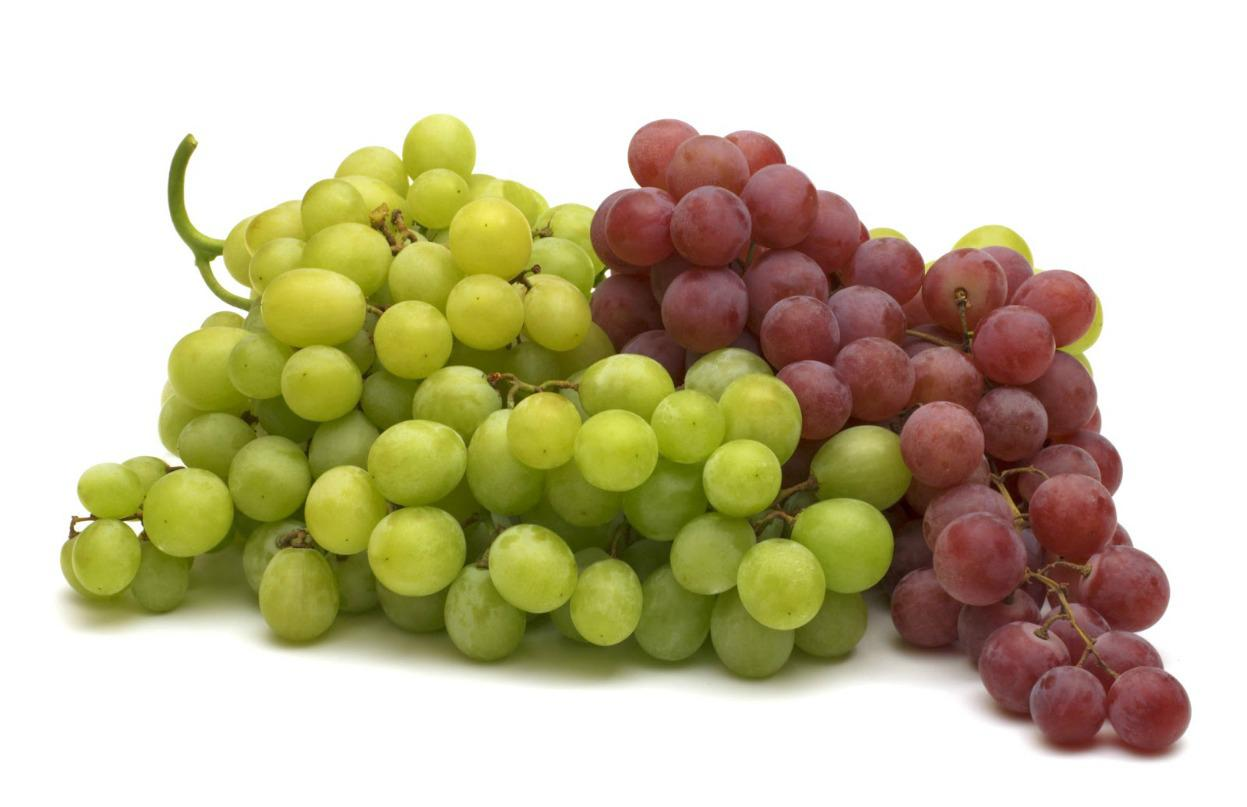grape: (581, 84, 1211, 771), (58, 103, 574, 703), (576, 355, 909, 710)
